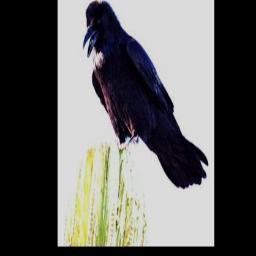Crow: (83, 0, 209, 189)
